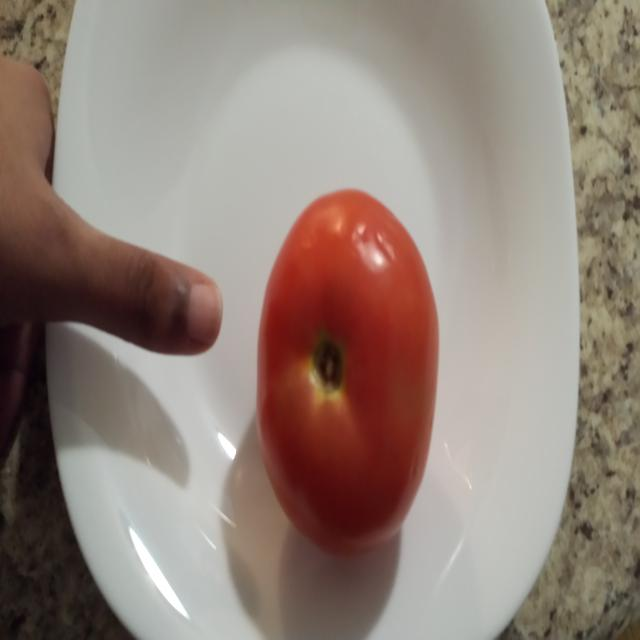tomato: (256, 188, 440, 556)
